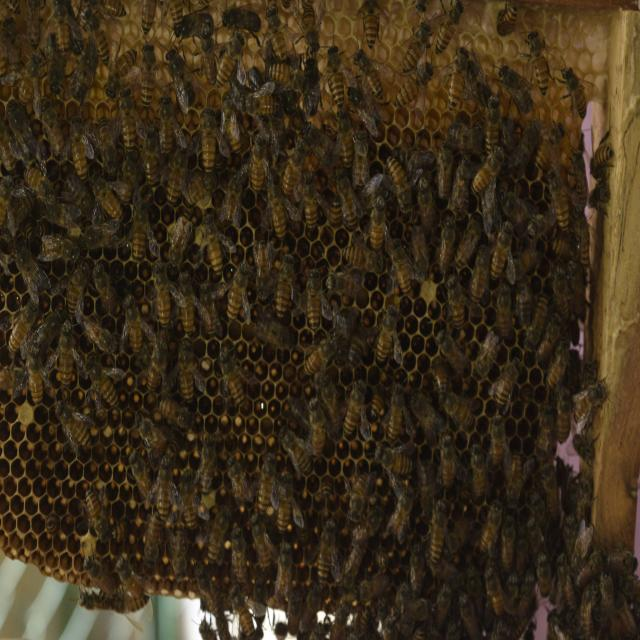honeybee: (297, 116, 338, 173), (278, 421, 316, 482), (12, 240, 47, 306), (52, 398, 96, 449), (394, 59, 437, 110), (6, 97, 42, 157), (84, 356, 124, 409), (498, 58, 536, 113), (69, 41, 102, 104), (437, 328, 474, 384), (348, 82, 383, 140), (165, 48, 197, 111), (524, 26, 552, 98), (106, 46, 140, 105), (248, 314, 294, 355), (353, 46, 387, 101), (206, 499, 233, 568), (82, 484, 112, 546), (217, 91, 246, 155), (560, 61, 590, 122), (217, 31, 247, 92), (387, 236, 416, 299), (6, 299, 38, 356), (574, 375, 611, 424), (128, 449, 158, 509), (81, 7, 112, 65), (432, 0, 464, 56), (176, 468, 204, 532), (334, 168, 360, 236), (38, 98, 66, 161), (166, 136, 190, 209), (131, 410, 174, 450), (454, 213, 483, 272), (218, 346, 246, 407), (386, 153, 414, 214), (538, 118, 566, 179), (471, 145, 507, 192), (373, 443, 414, 484), (65, 258, 93, 318), (262, 4, 290, 64), (546, 170, 572, 234), (251, 232, 274, 304), (67, 115, 92, 181), (386, 485, 417, 538), (56, 320, 78, 394), (197, 430, 222, 495), (402, 18, 431, 74), (79, 222, 126, 256), (90, 176, 124, 223), (171, 9, 218, 43), (220, 167, 247, 226), (19, 47, 46, 106), (508, 243, 543, 288), (439, 390, 478, 430), (471, 329, 501, 381), (340, 242, 387, 275), (121, 292, 146, 354), (227, 261, 252, 323), (268, 60, 311, 96), (158, 453, 180, 523), (301, 334, 336, 378), (168, 207, 194, 266), (412, 166, 437, 227), (204, 212, 227, 278), (303, 267, 326, 333), (145, 332, 169, 395), (219, 2, 263, 36), (142, 123, 164, 191), (342, 377, 365, 442), (496, 185, 529, 230), (91, 262, 119, 315), (83, 317, 122, 355), (150, 258, 171, 328), (230, 523, 254, 584), (248, 511, 272, 572), (384, 380, 408, 441), (548, 335, 575, 389), (551, 264, 577, 320), (300, 168, 322, 234), (586, 136, 619, 180), (426, 505, 451, 563), (342, 533, 371, 583), (376, 305, 399, 368), (490, 222, 514, 282), (198, 23, 221, 85), (436, 209, 456, 280), (23, 162, 55, 206), (314, 516, 334, 586), (452, 150, 474, 213), (476, 499, 502, 552), (76, 583, 112, 621), (572, 543, 608, 581), (448, 49, 469, 114), (248, 129, 270, 191), (98, 112, 120, 174), (138, 42, 158, 110), (614, 588, 640, 640), (191, 564, 219, 612), (557, 554, 578, 617), (470, 245, 491, 308), (347, 469, 371, 524), (351, 128, 373, 188), (257, 450, 278, 512), (176, 338, 197, 400), (497, 355, 519, 414), (45, 200, 81, 236), (482, 93, 503, 154), (122, 87, 140, 158), (22, 347, 44, 405), (144, 513, 166, 571), (282, 137, 306, 190), (265, 188, 288, 243), (542, 466, 563, 526), (306, 400, 328, 457), (326, 42, 345, 108), (569, 148, 588, 214), (114, 555, 145, 595), (274, 476, 294, 538), (79, 555, 120, 585), (225, 454, 250, 503), (157, 398, 193, 432), (199, 278, 219, 339), (304, 59, 324, 120), (335, 102, 354, 166), (301, 7, 323, 62), (113, 588, 153, 618), (573, 215, 594, 272), (278, 256, 296, 322), (42, 232, 80, 263), (446, 273, 467, 329), (538, 315, 562, 364), (526, 296, 550, 344), (0, 116, 18, 180), (64, 172, 90, 216), (359, 0, 381, 51), (168, 530, 191, 578), (178, 268, 194, 336), (237, 93, 282, 117), (53, 1, 71, 61), (24, 0, 44, 53), (488, 413, 507, 468), (484, 565, 504, 617), (439, 432, 455, 496), (446, 121, 480, 151), (508, 451, 524, 513), (470, 438, 486, 499), (496, 285, 514, 339), (371, 194, 388, 250), (410, 542, 427, 598), (132, 204, 148, 262), (203, 108, 217, 174), (596, 570, 616, 616), (8, 192, 31, 232), (237, 599, 259, 640), (519, 570, 536, 623), (604, 549, 640, 574), (436, 138, 449, 207), (578, 584, 594, 640), (400, 597, 434, 623), (460, 590, 478, 639), (430, 354, 450, 398), (546, 228, 572, 261), (336, 595, 355, 640), (279, 542, 293, 602), (494, 2, 516, 40), (537, 553, 554, 602), (557, 388, 571, 447), (586, 180, 612, 211), (284, 588, 300, 638), (0, 176, 15, 229), (0, 16, 12, 81), (348, 326, 367, 366), (502, 518, 516, 571), (514, 285, 530, 331), (212, 603, 231, 640), (112, 514, 132, 549), (96, 0, 129, 21), (505, 572, 520, 618), (139, 0, 156, 37), (369, 549, 395, 572), (435, 584, 452, 619), (560, 512, 576, 549), (528, 517, 544, 553), (194, 612, 214, 640), (21, 216, 39, 243), (311, 614, 329, 640), (359, 600, 373, 630), (0, 366, 15, 394), (0, 0, 23, 16), (320, 475, 332, 496), (414, 0, 429, 15), (414, 626, 425, 640)
